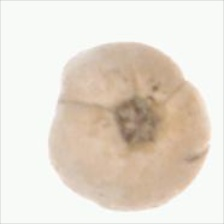L4: (48, 42, 210, 210)
